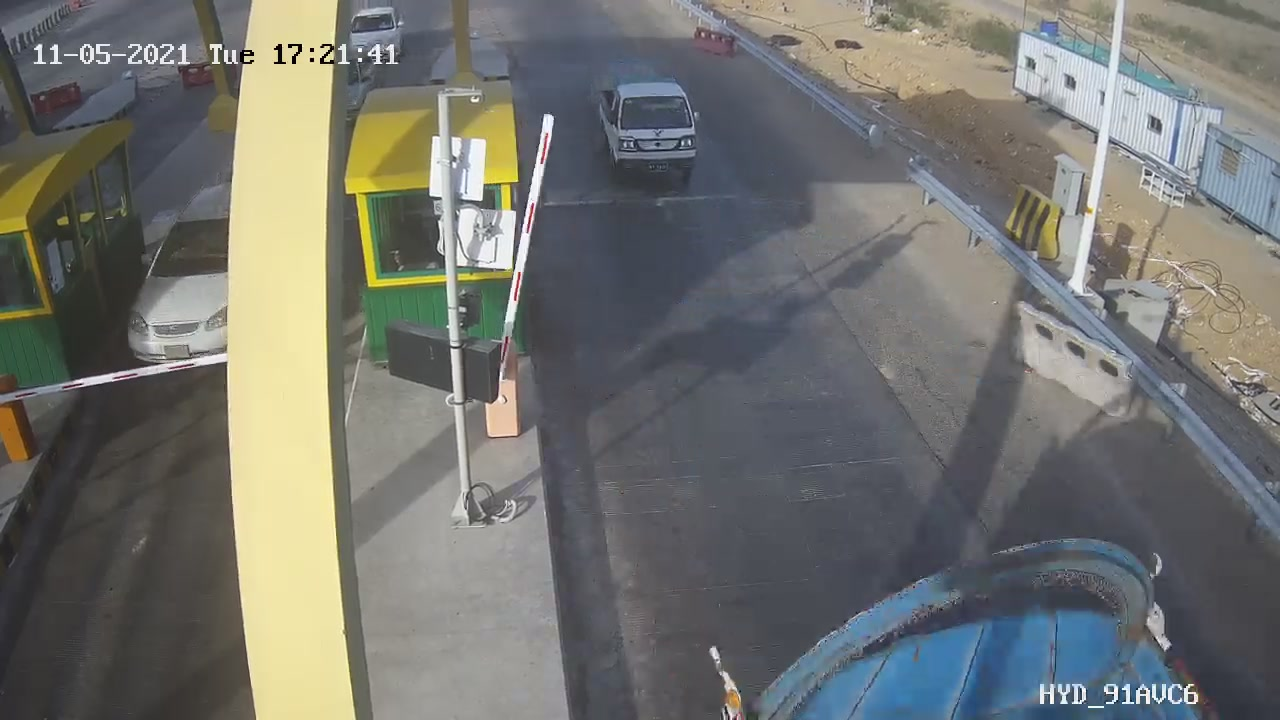F1: (583, 62, 718, 201)
